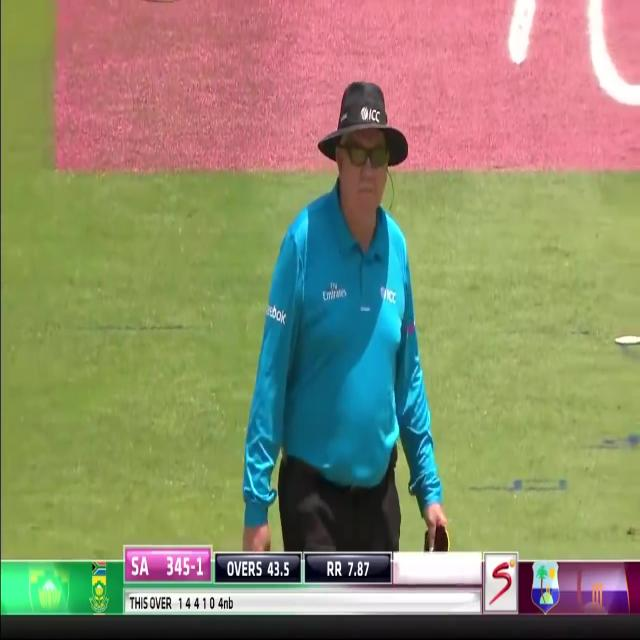Umpire: (247, 82, 449, 550)
